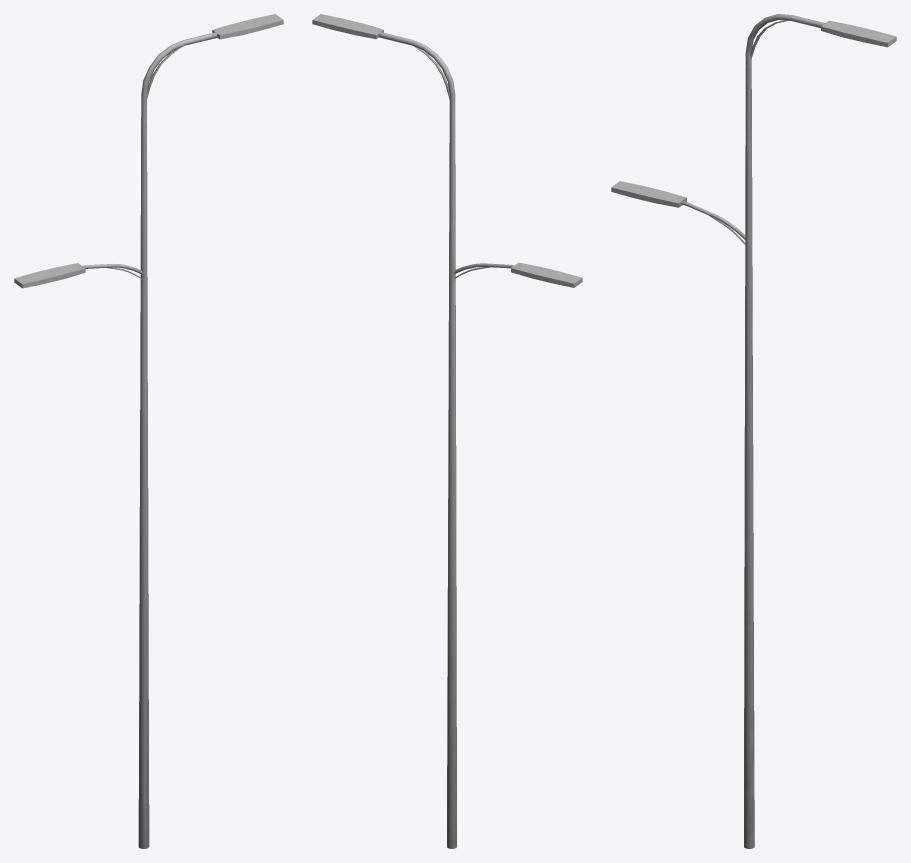
The model's file is ludeng_07.glb.
The picture shows the model from 3 angles, left to right: view 1: azimuth 30°, elevation 25°; view 2: azimuth 150°, elevation 25°; view 3: azimuth 330°, elevation 25°; orthographic projection. The views are drawn at different scales.
Parts seen in each view (by area): view 1: SM_ludeng_07; view 2: SM_ludeng_07; view 3: SM_ludeng_07.
Boxes of the visible parts, x1,y1,x2,y2 form: SM_ludeng_07: (14, 14, 283, 848); SM_ludeng_07: (312, 14, 582, 848); SM_ludeng_07: (611, 14, 896, 848).
Bounding box in the file's own units: 4.12 × 11.99 × 0.258.
Materials: 1 (1 with a texture image).
